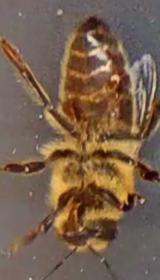varroa_mite: (96, 62, 130, 96), (60, 88, 77, 127)
